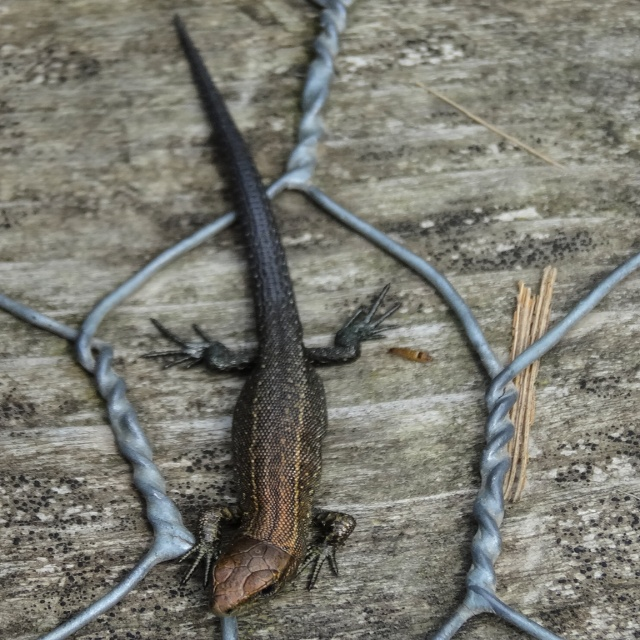Lizard: (133, 18, 404, 611)
